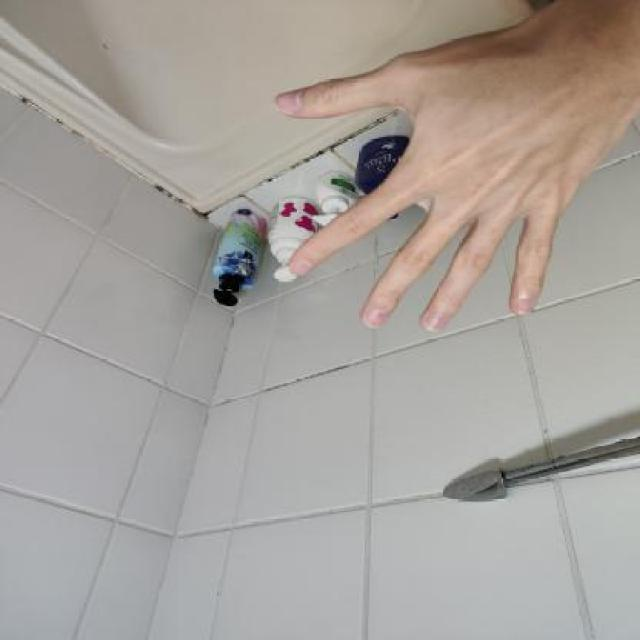bare_hand: (262, 0, 640, 343)
